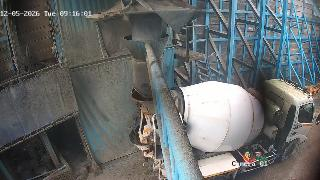cement_mixer_truck: (132, 78, 320, 180)
swing_chute: (124, 34, 169, 99)
